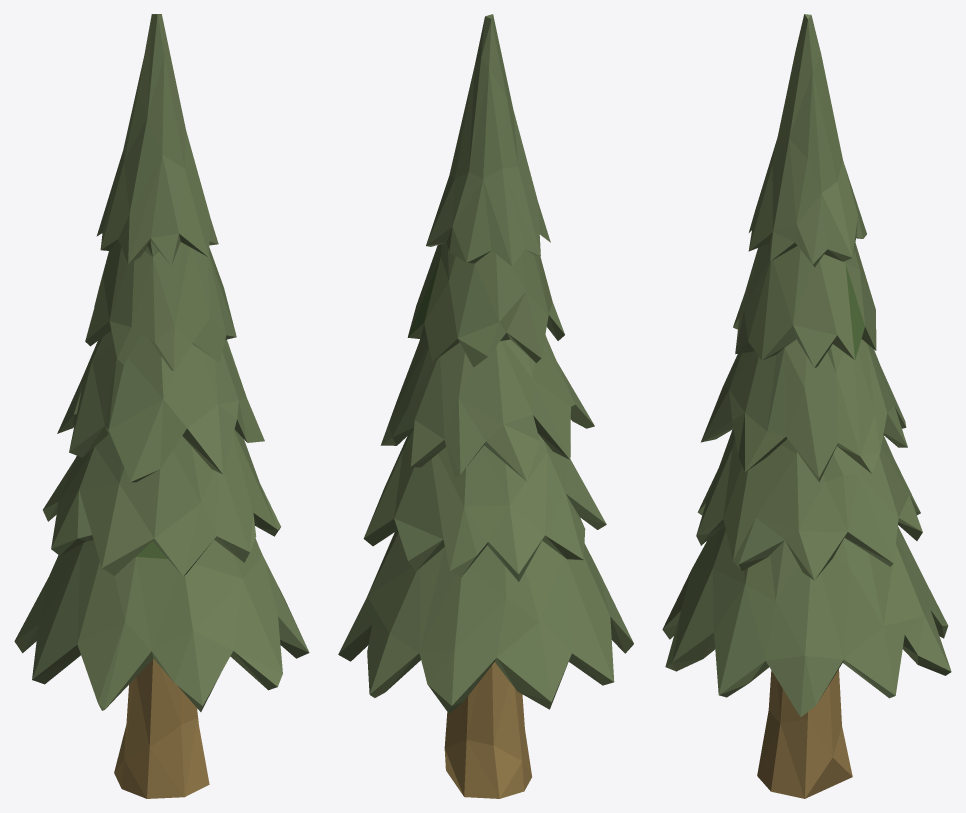
The model's file is prop_fir.glb.
The picture shows the model from 3 angles, left to right: view 1: azimuth 30°, elevation 25°; view 2: azimuth 150°, elevation 25°; view 3: azimuth 270°, elevation 25°; orthographic projection.
Visible parts, largest first — view 1: LeafCanopy, Trunk; view 2: LeafCanopy, Trunk; view 3: LeafCanopy, Trunk.
Boxes of the visible parts, bbox=[...] form: LeafCanopy: bbox=[14, 14, 309, 711]; Trunk: bbox=[114, 659, 209, 798]; LeafCanopy: bbox=[338, 14, 633, 713]; Trunk: bbox=[444, 662, 531, 798]; LeafCanopy: bbox=[662, 14, 951, 717]; Trunk: bbox=[757, 669, 852, 798].
Size of the model in its own units: 0.3472 by 1 by 0.3439.
